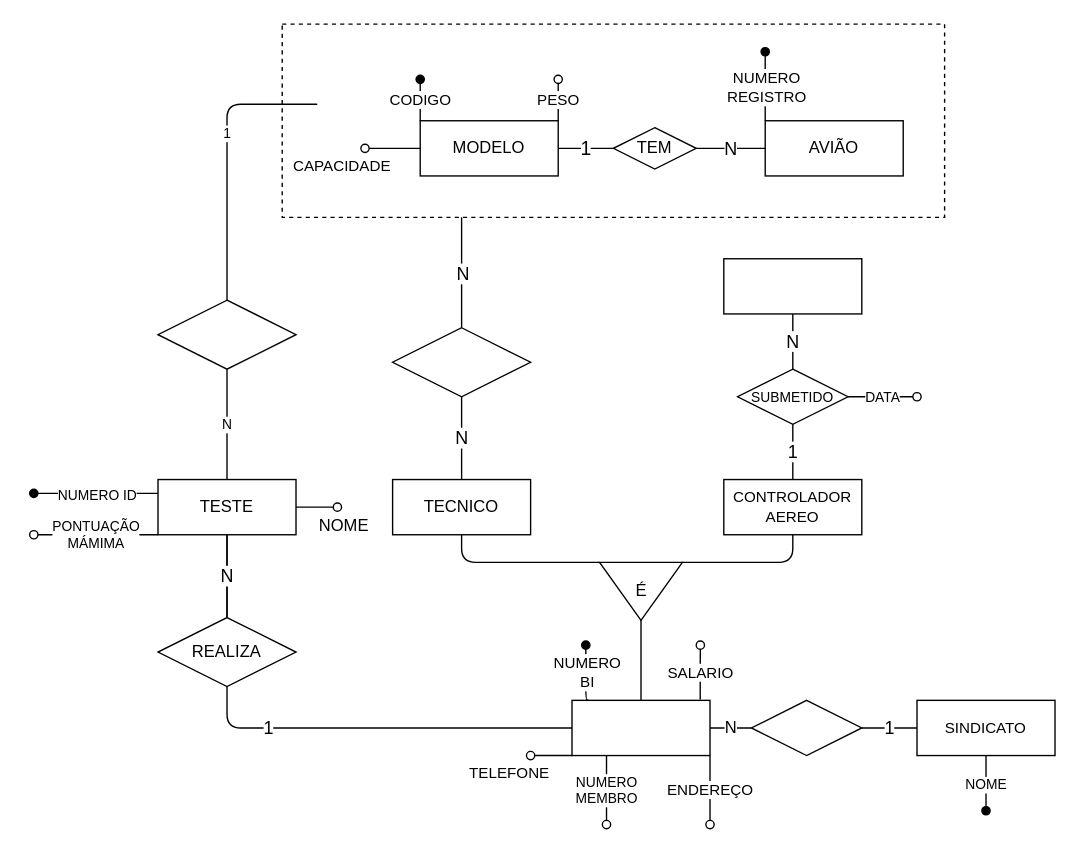
This 1079x860 diagram has some shape labels left out. The shapes that lost their labels are listed below. From the top down, each one's centre as x and y in pixels, then its label:
(792,285): EXAME MÉDICO
(226,334): FEITO
(461,361): PERITO
(640,727): FUNCIONARIO
(806,727): PERTENCE
